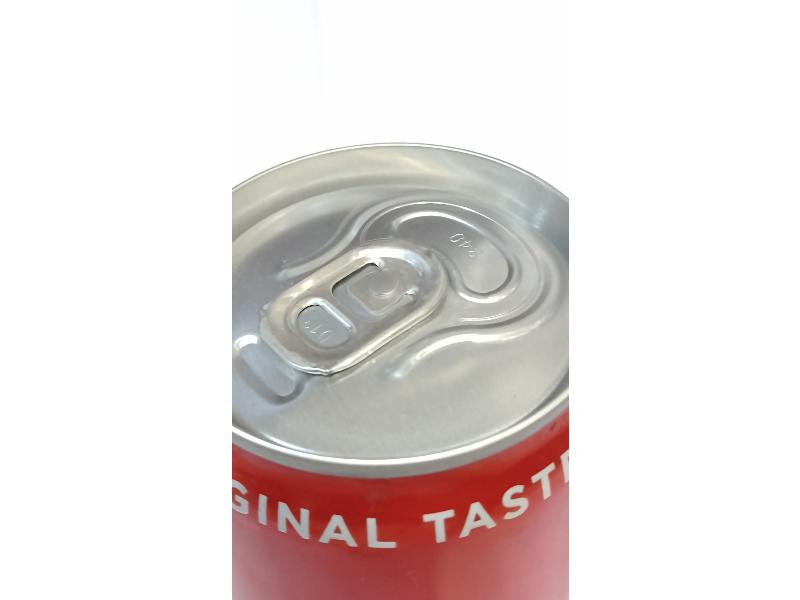can: (232, 138, 567, 576)
